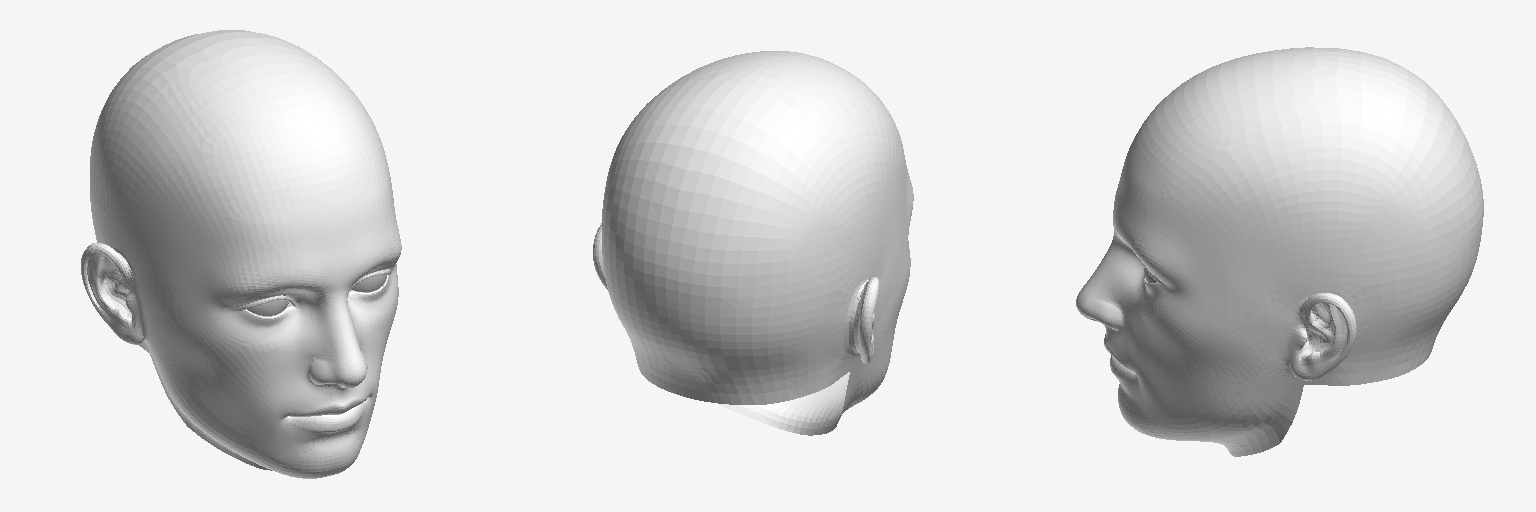
File: cMale.obj
3 renders of one model, left to right at view 1: azimuth 30°, elevation 25°; view 2: azimuth 150°, elevation 25°; view 3: azimuth 270°, elevation 25°, orthographic.
Parts seen in each view (by area): view 1: Genesis2Male; view 2: Genesis2Male; view 3: Genesis2Male.
Part boxes in pixels (bbox=[...]): Genesis2Male: bbox=[81, 30, 401, 478]; Genesis2Male: bbox=[593, 51, 913, 435]; Genesis2Male: bbox=[1076, 47, 1483, 456].
Size of the model in its own units: 17.95 by 23.97 by 22.68.